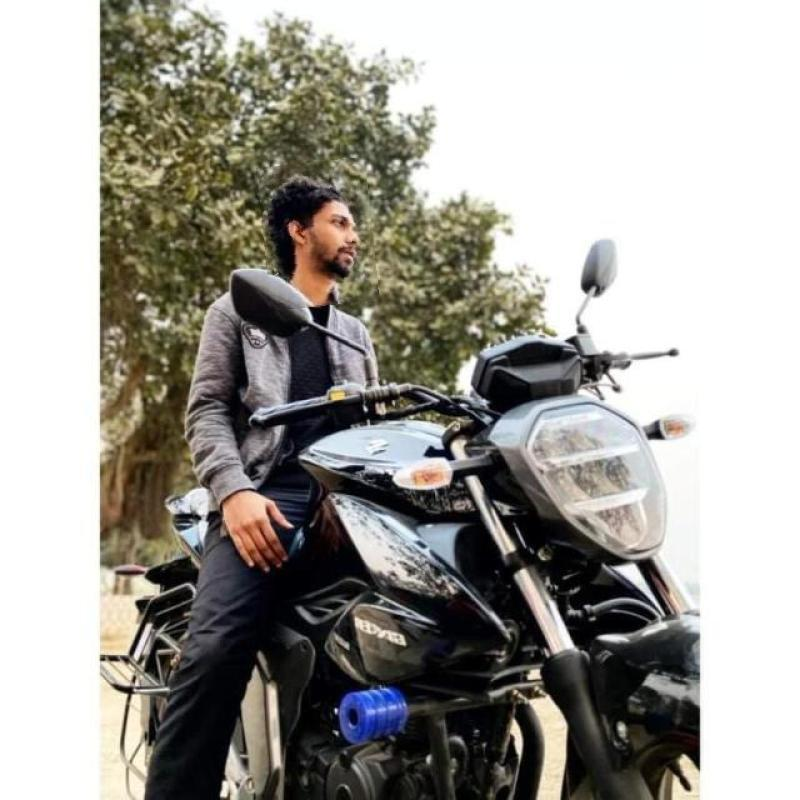nohelmet: (260, 160, 376, 309)
